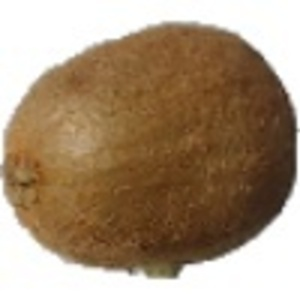kiwi: (1, 20, 300, 283)
